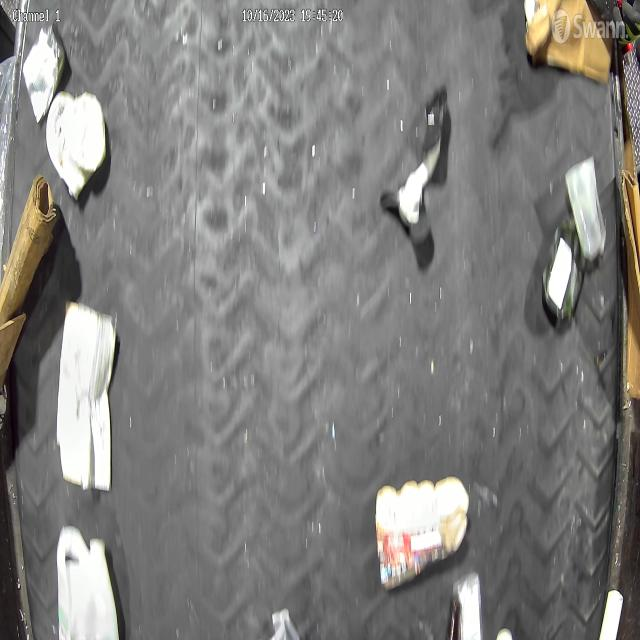milk_jug: (55, 524, 120, 640), (22, 22, 66, 126)
